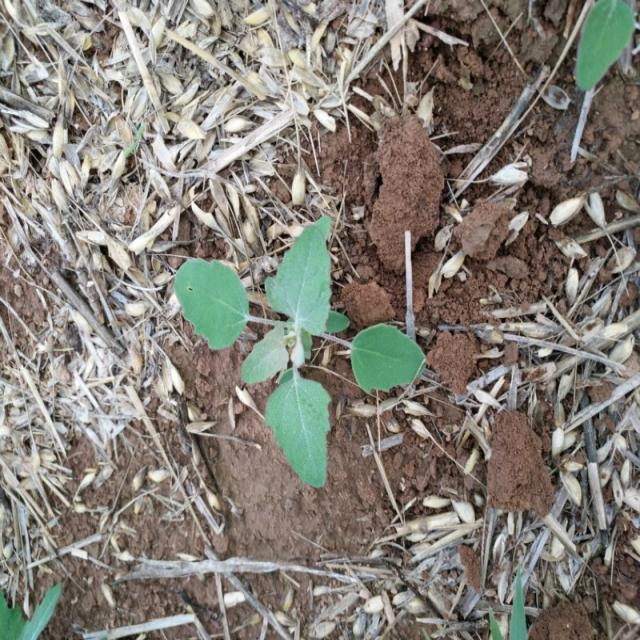goosefoots: (158, 182, 438, 486)
